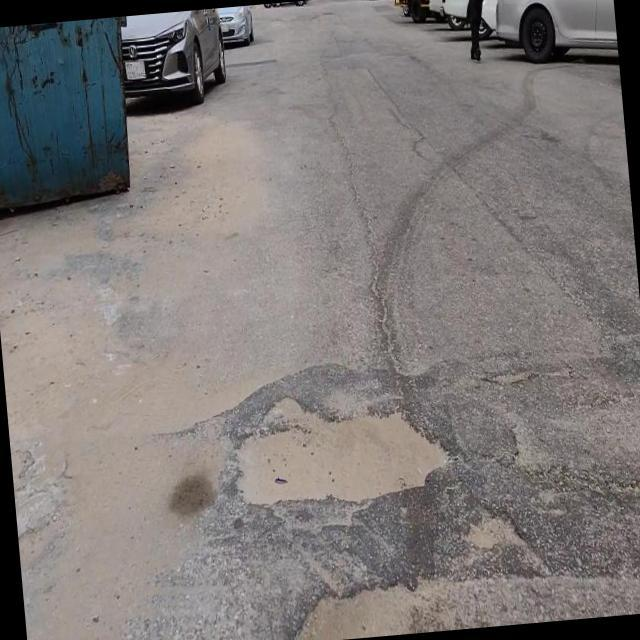Pothole: (234, 394, 453, 512), (290, 580, 423, 639)
